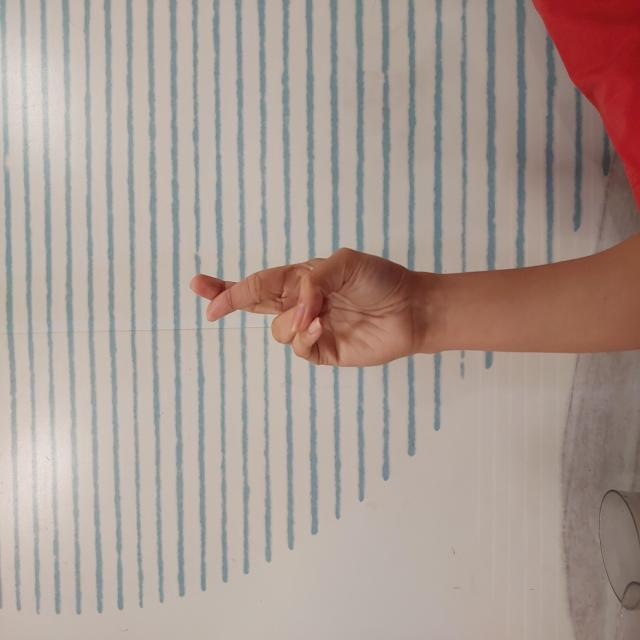R: (272, 187, 395, 421)
